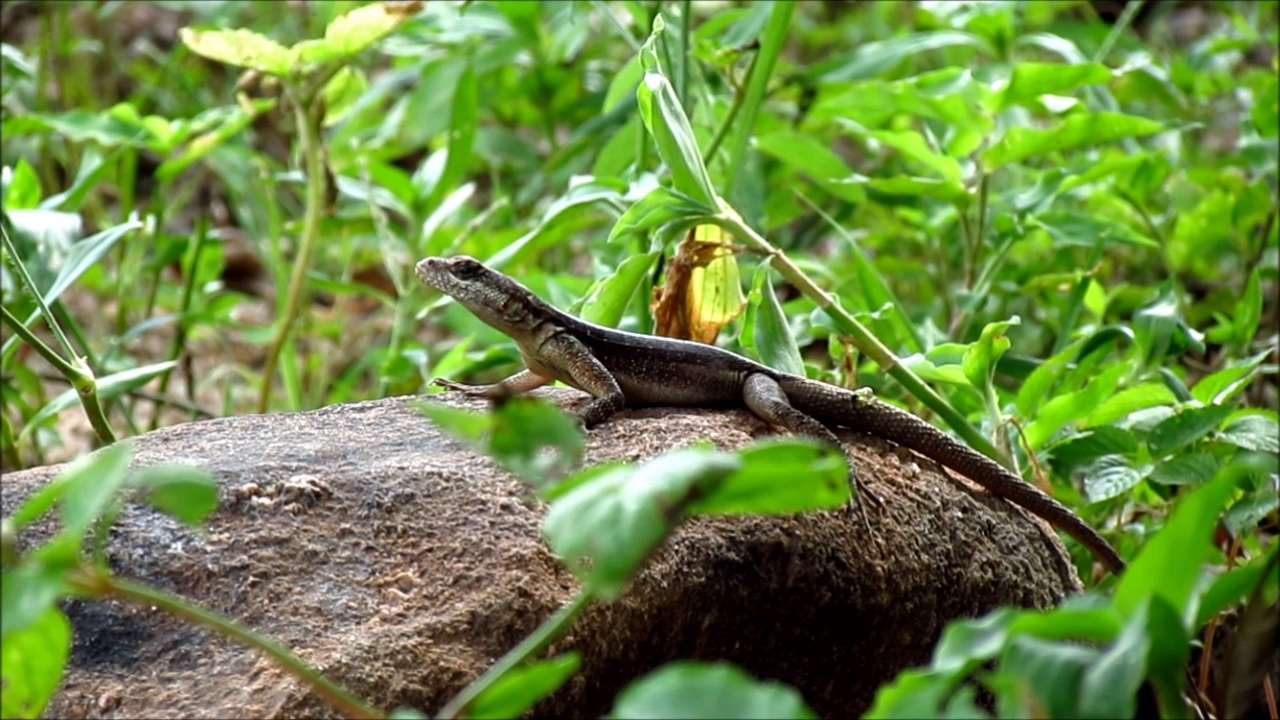body: (435, 287, 1124, 578)
head: (413, 253, 525, 313)
